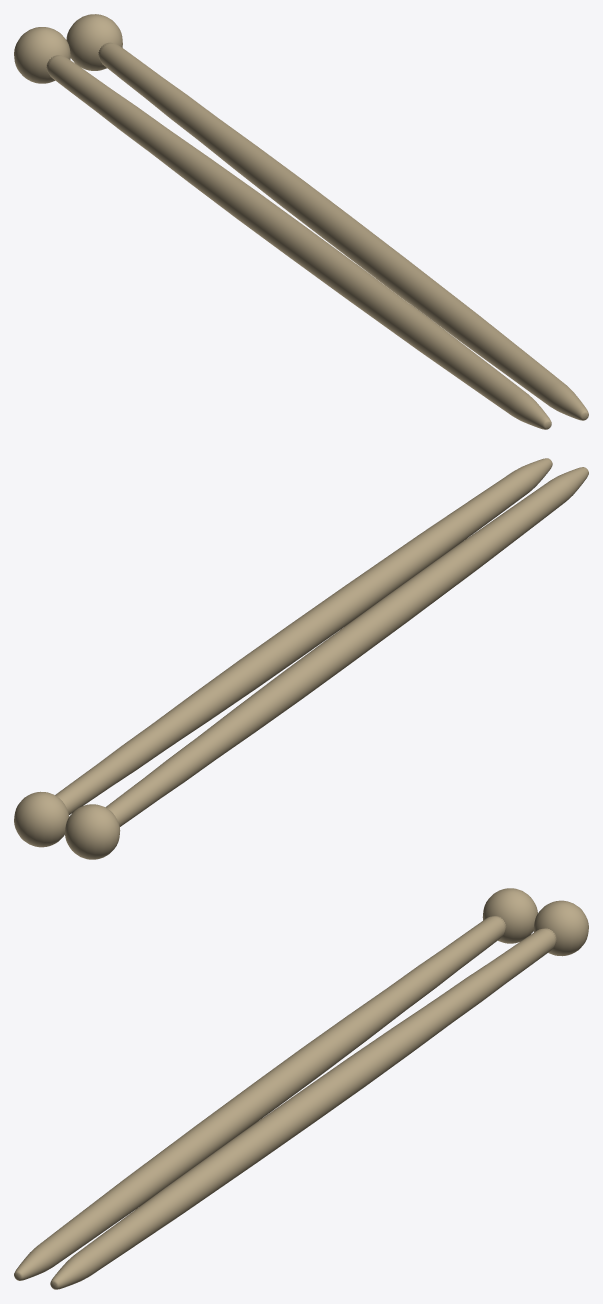
Rendered from 編み棒_作り直し.fbx.
3 views of the same model, one above another, from view 1: azimuth 30°, elevation 25°; view 2: azimuth 150°, elevation 25°; view 3: azimuth 330°, elevation 25° (orthographic). The views are drawn at different scales.
Visible parts, largest first — view 1: pSphere2, pSphere3; view 2: pSphere3, pSphere2; view 3: pSphere3, pSphere2.
Boxes of the visible parts, <box> form: pSphere2: <box>14,27,551,429</box>; pSphere3: <box>66,14,588,420</box>; pSphere3: <box>14,458,552,847</box>; pSphere2: <box>65,467,588,859</box>; pSphere3: <box>50,900,588,1289</box>; pSphere2: <box>14,888,537,1280</box>.
Bounding box in the file's own units: 0.6635 × 0.3225 × 5.88.
